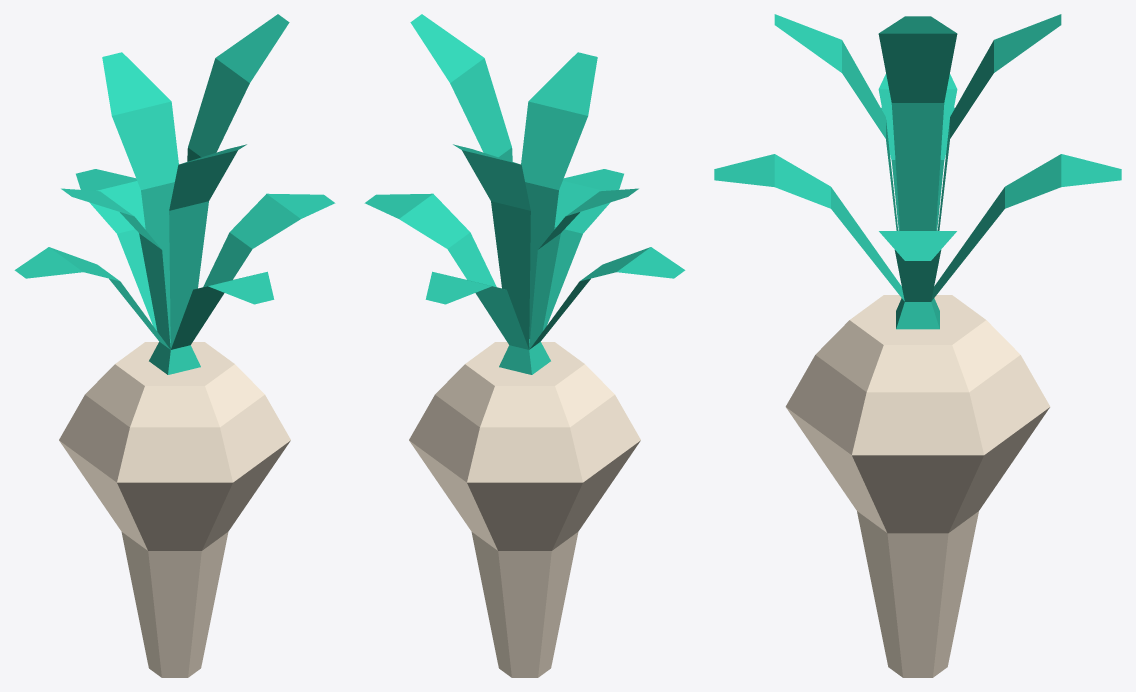
File: crop_turnip.obj
The picture shows the model from 3 angles, left to right: view 1: azimuth 30°, elevation 25°; view 2: azimuth 150°, elevation 25°; view 3: azimuth 270°, elevation 25°; orthographic projection. The views are drawn at different scales.
Visible parts, largest first — view 1: crop_turnip; view 2: crop_turnip; view 3: crop_turnip.
Part boxes in pixels (x1,y1,x2,y2): crop_turnip: (14,14,335,677); crop_turnip: (364,14,685,677); crop_turnip: (714,14,1121,677).
Bounding box in the file's own units: 0.3431 × 0.6607 × 0.3431.
